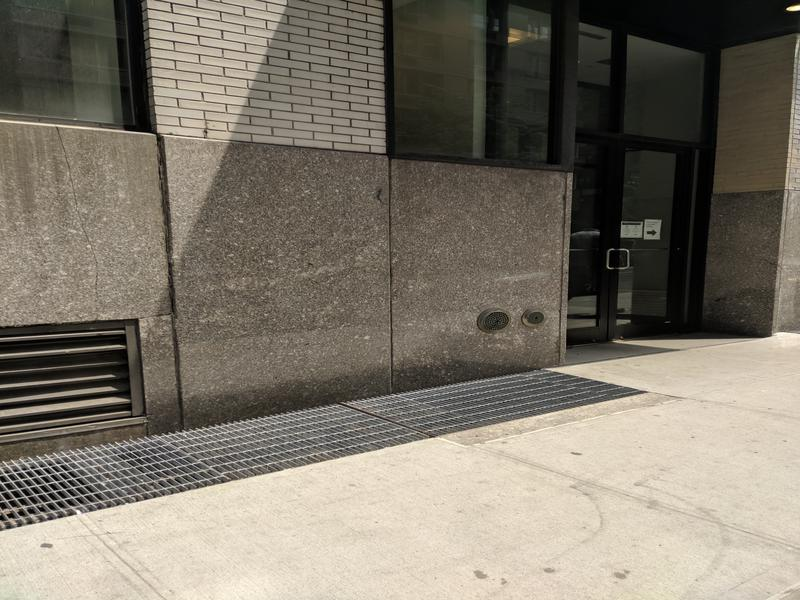door: (611, 136, 694, 336)
